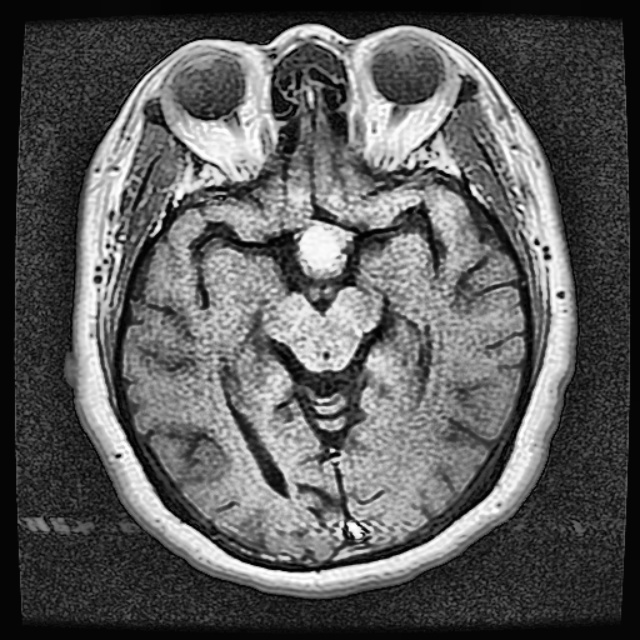Pituitary: (294, 220, 354, 277)
